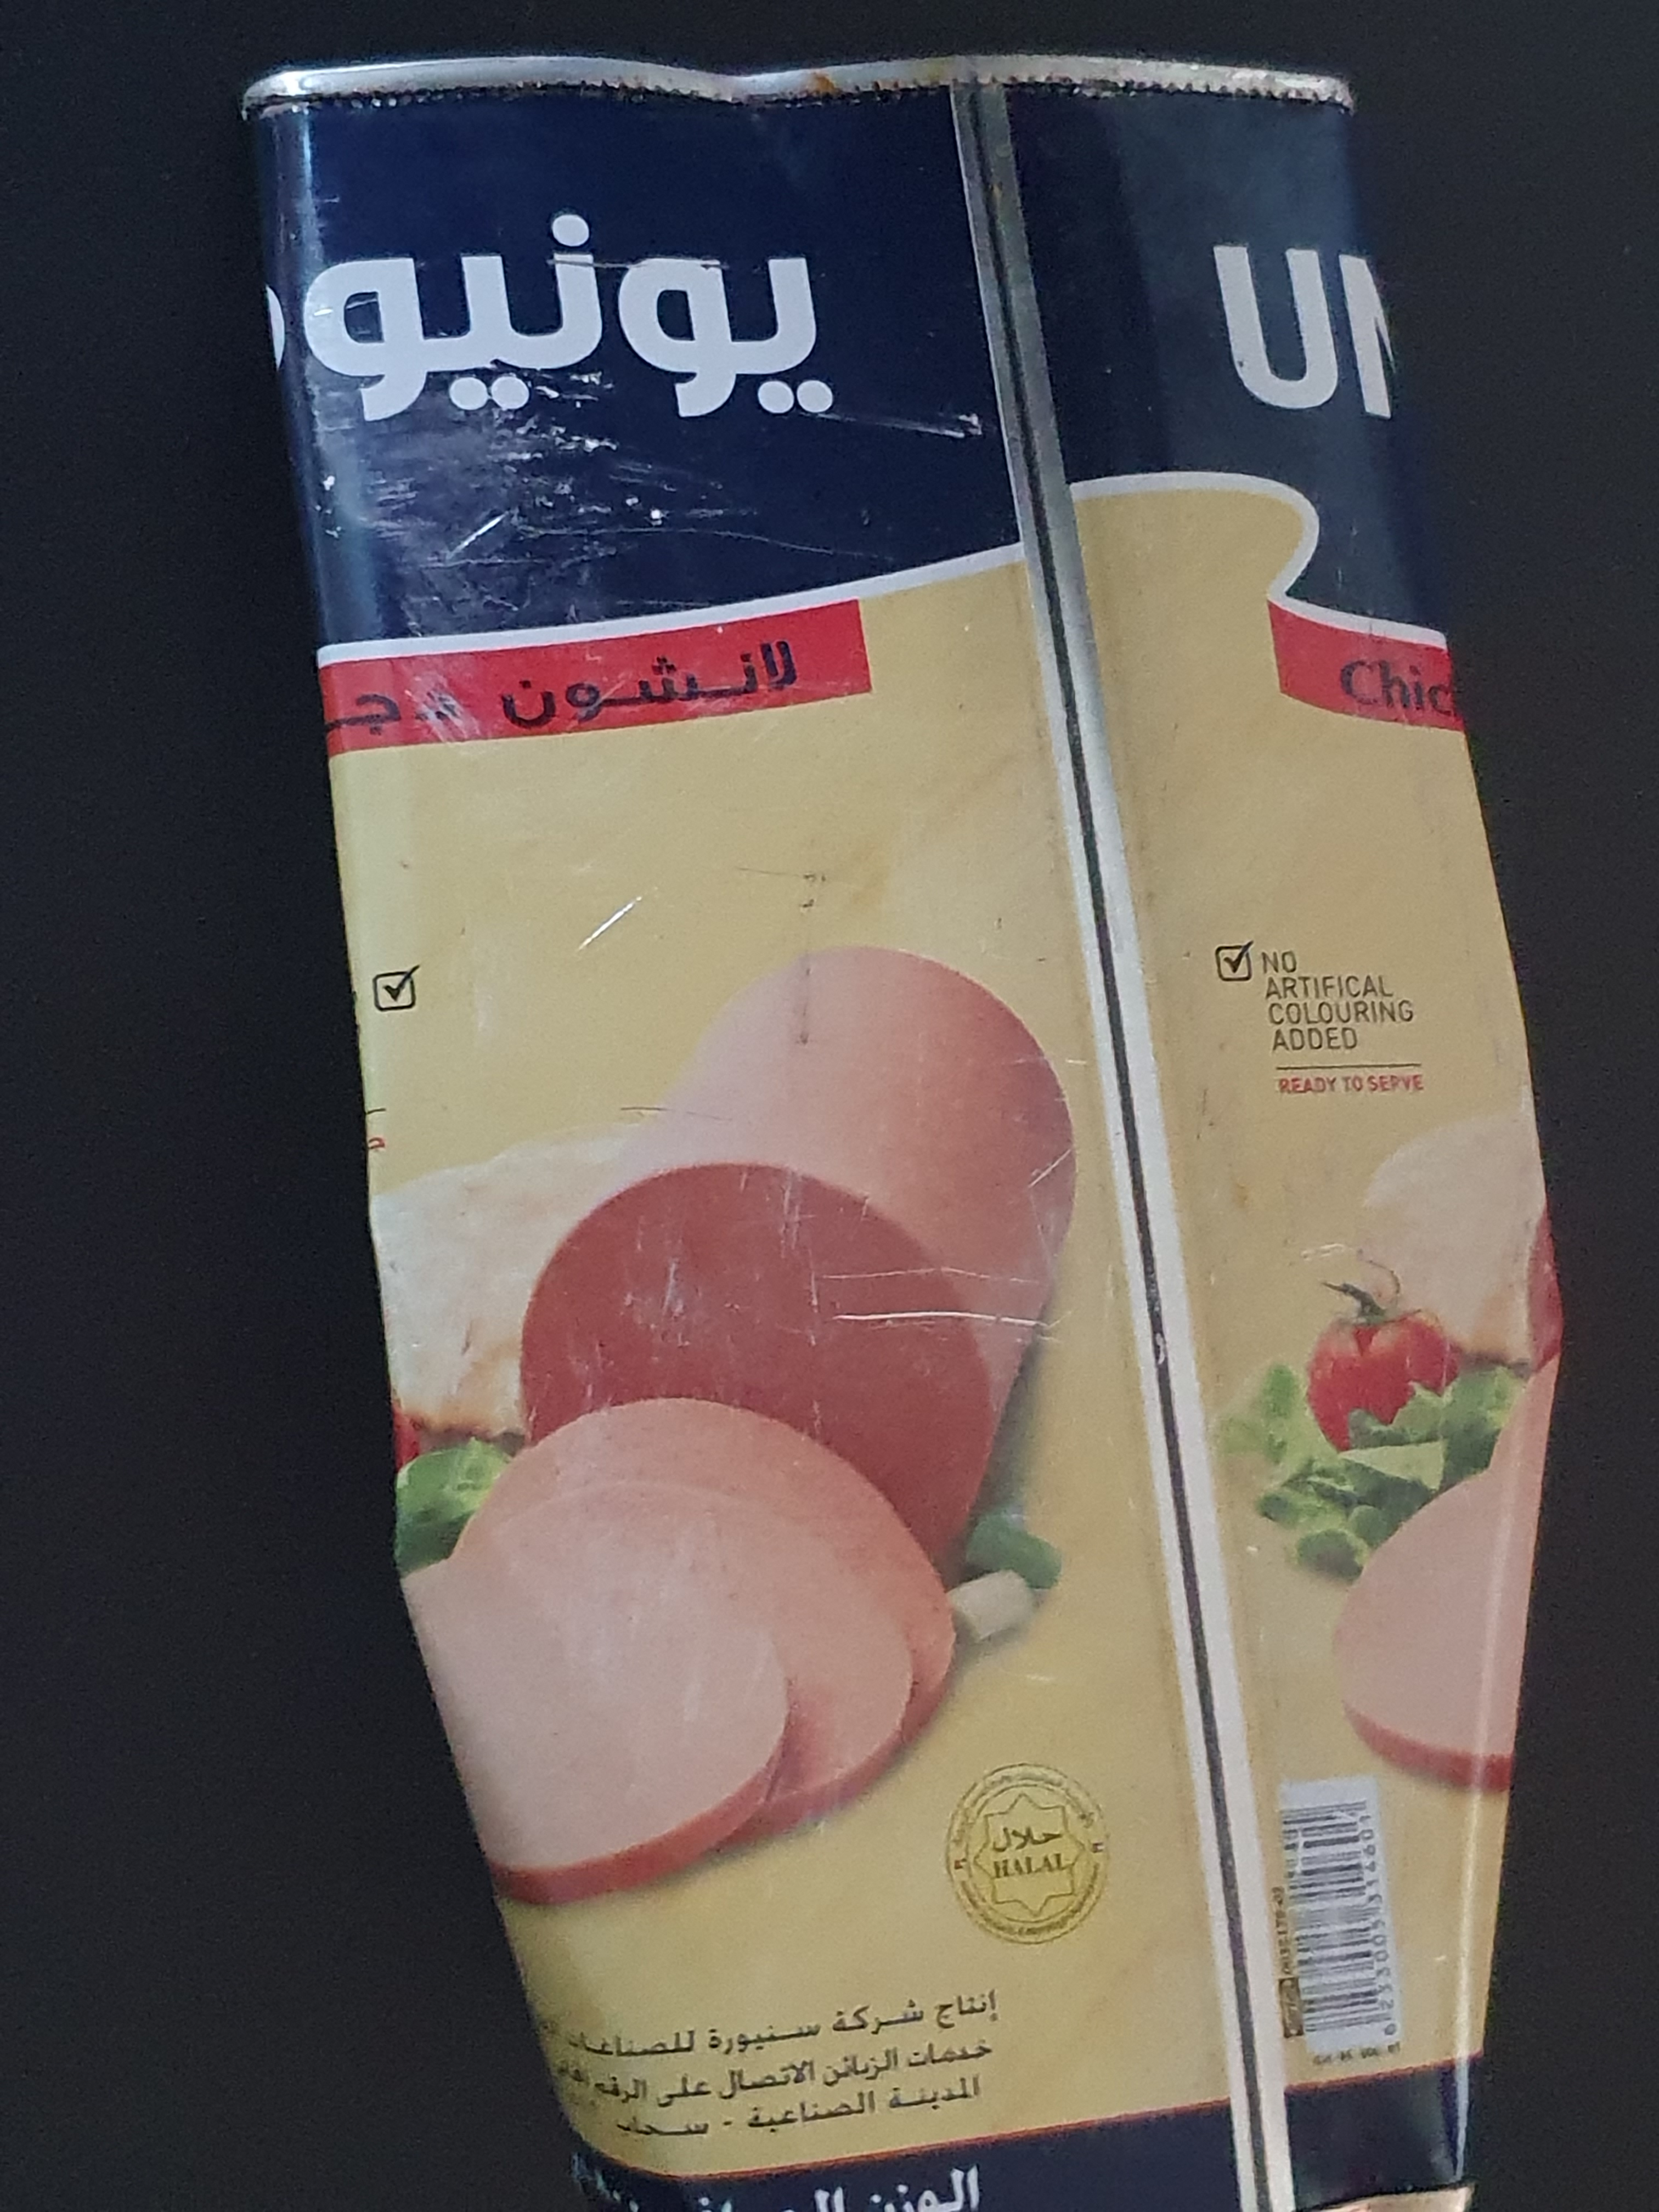metal: (220, 10, 1579, 2212)
